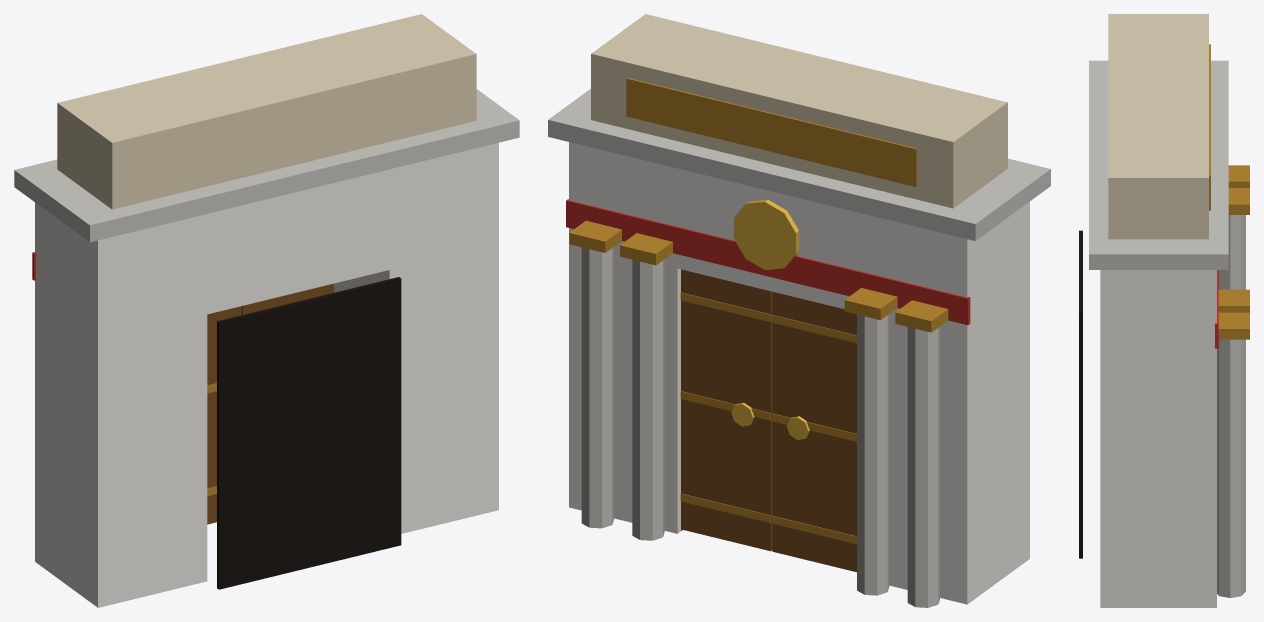
Rendered from SM_GrandGate.fbx.
The picture shows the model from 3 angles, left to right: view 1: azimuth 30°, elevation 25°; view 2: azimuth 150°, elevation 25°; view 3: azimuth 270°, elevation 25°; orthographic projection. The views are drawn at different scales.
Parts seen in each view (by area): view 1: SM_GrandGate_Frame, DoorR, DoorL; view 2: SM_GrandGate_Frame, DoorL, DoorR; view 3: SM_GrandGate_Frame.
Boxes of the visible parts, left/top/right/bottom form: SM_GrandGate_Frame: left=14, top=14, right=519, bottom=607; DoorR: left=207, top=306, right=241, bottom=524; DoorL: left=241, top=283, right=333, bottom=314; SM_GrandGate_Frame: left=548, top=14, right=1050, bottom=607; DoorL: left=680, top=269, right=772, bottom=551; DoorR: left=772, top=291, right=856, bottom=572; SM_GrandGate_Frame: left=1079, top=14, right=1249, bottom=607.
Bounding box in the file's own units: 11.8 × 4.4 × 12.
